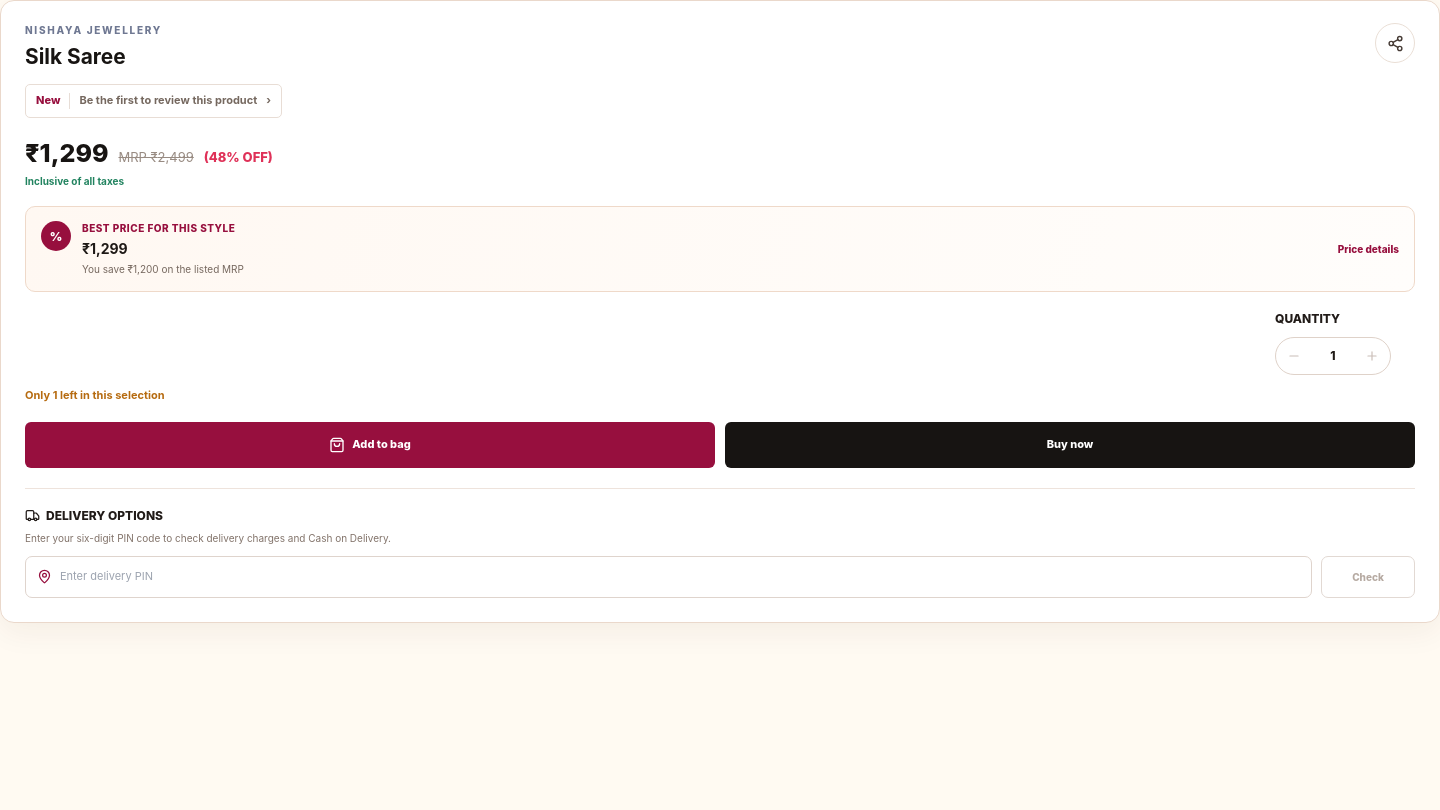
desktop product purchase information › shows a working factual price breakdown
Click the button "Price details" at (1368, 249), box 1338,221 -> 1399,277
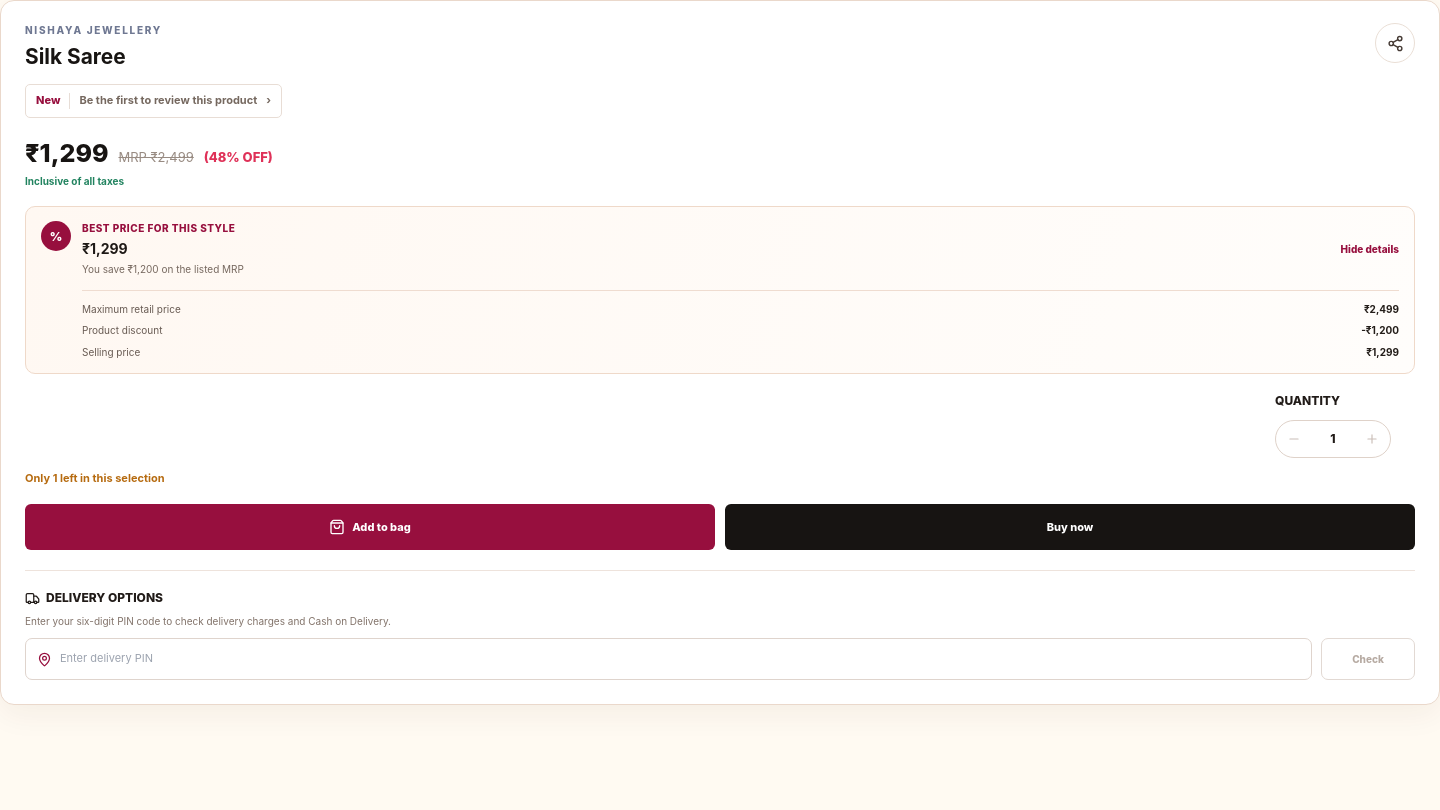
Result: the text "Maximum retail price" is shown at 82,302 -> 181,316
Result: the text "Product discount" is shown at 82,323 -> 162,338
Result: the text "Selling price" is shown at 82,345 -> 140,359
